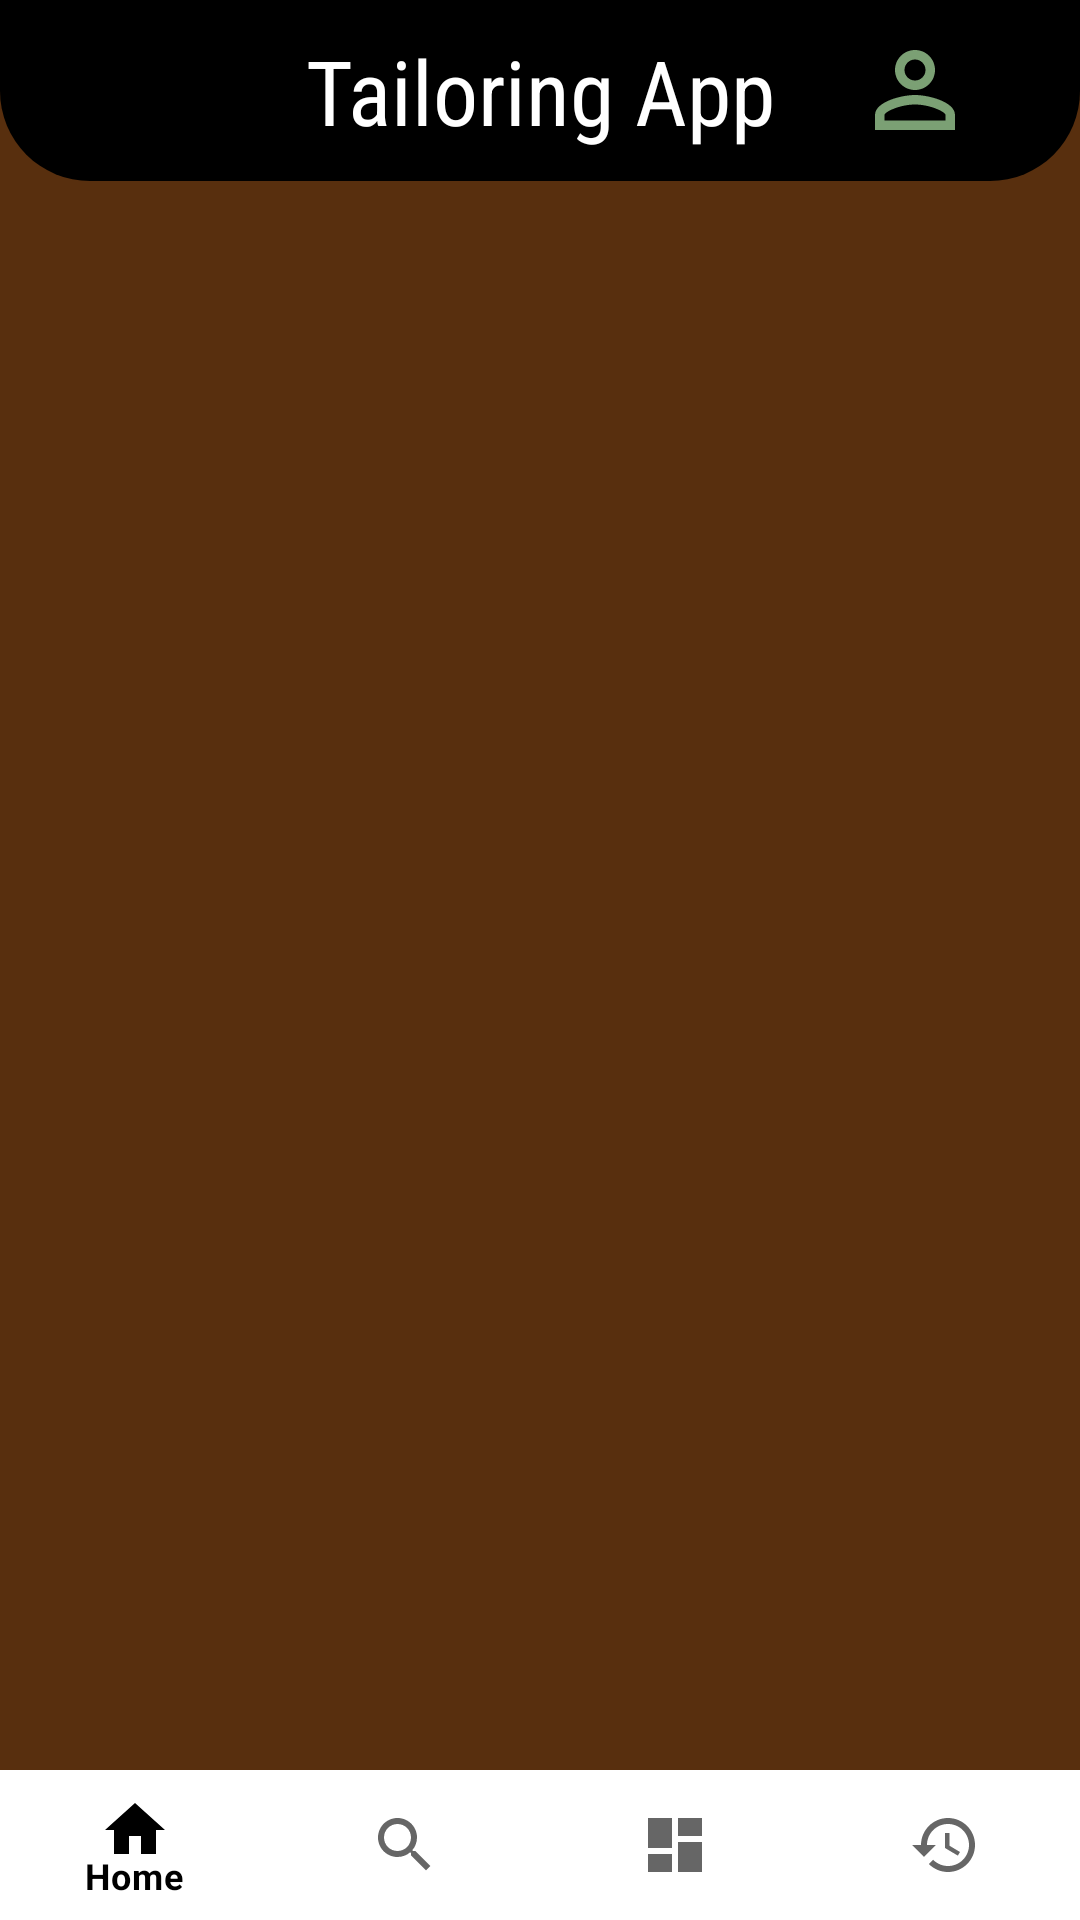

Named icons in this screenshot (1080px×1920px) and their centers, point (x, y):
person: point (915, 90)
